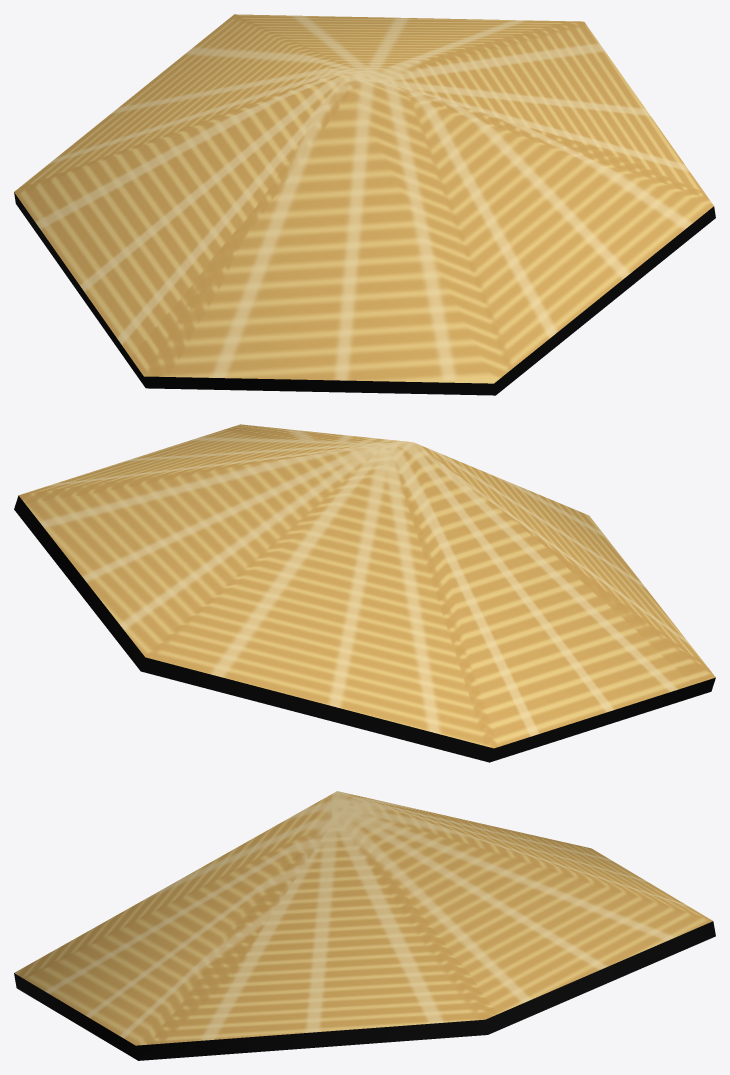
File: Hat_2.FBX
3 views of the same model, one above another, from view 1: azimuth 30°, elevation 25°; view 2: azimuth 150°, elevation 25°; view 3: azimuth 270°, elevation 25° (orthographic). The views are drawn at different scales.
Visible parts, largest first — view 1: Cylinder002; view 2: Cylinder002; view 3: Cylinder002.
Part boxes in pixels (x1,y1,x2,y2): Cylinder002: [14, 14, 715, 395]; Cylinder002: [14, 424, 715, 762]; Cylinder002: [14, 791, 715, 1060].
Bounding box in the file's own units: 12.39 × 4.57 × 13.24.
